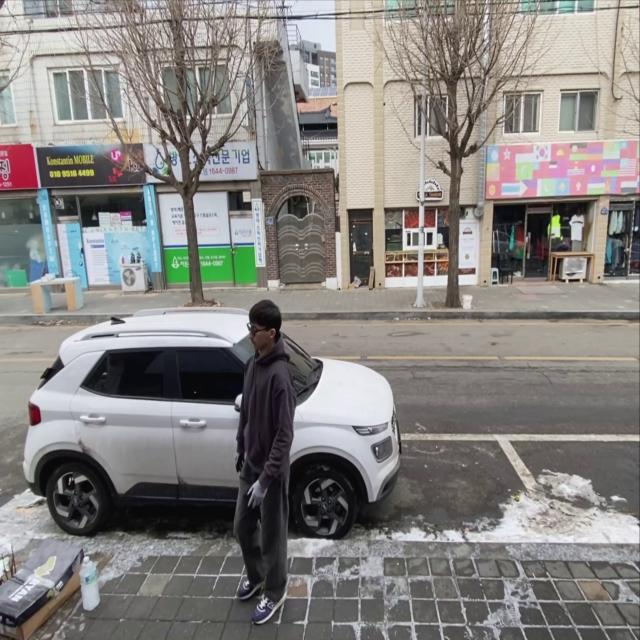gloved_hand: (243, 477, 268, 510), (232, 449, 246, 474)
